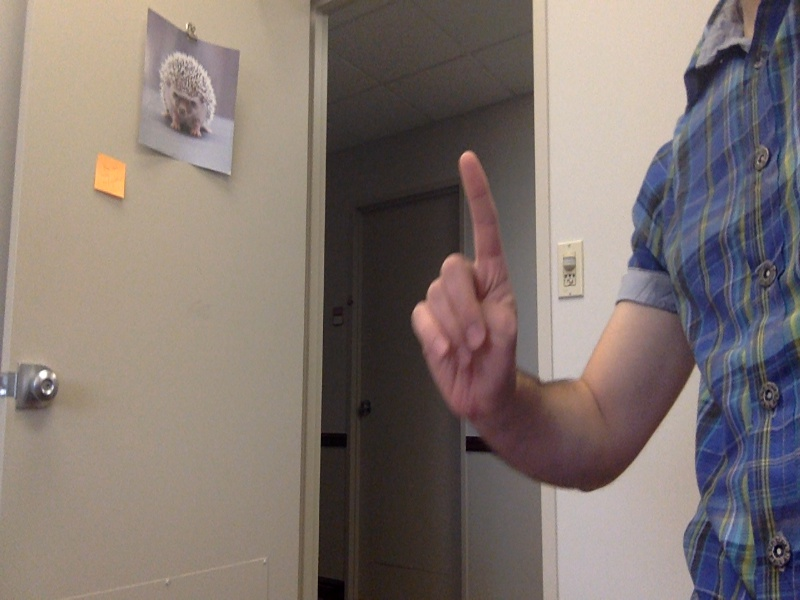1-hand: (407, 150, 521, 428)
